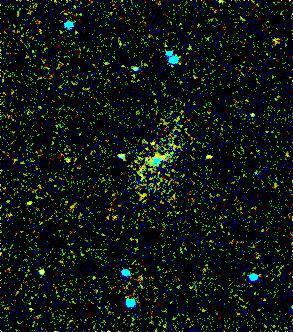star: (190, 144, 220, 174)
